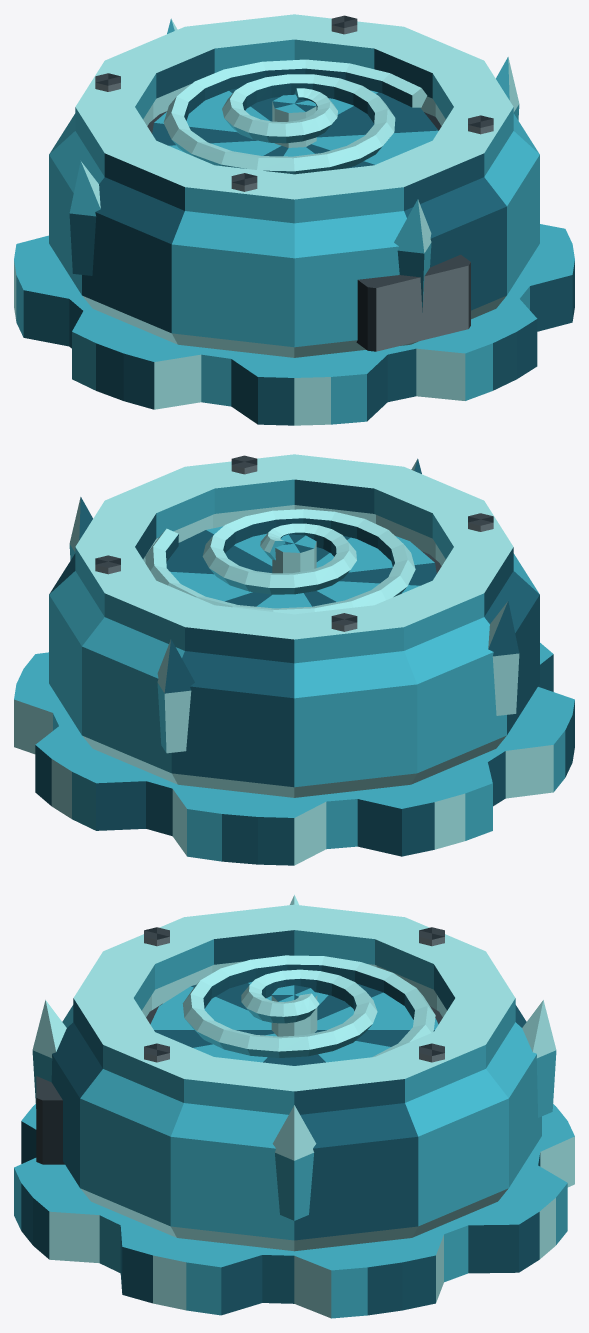
The model's file is diamond_extractor.fbx.
3 renders of one model, top to bottom at view 1: azimuth 30°, elevation 25°; view 2: azimuth 150°, elevation 25°; view 3: azimuth 270°, elevation 25°, orthographic.
Parts seen in each view (by area): view 1: diamond_extractor_body, diamond_extractor_rotor; view 2: diamond_extractor_body, diamond_extractor_rotor; view 3: diamond_extractor_body, diamond_extractor_rotor.
Part boxes in pixels (x1,y1,x2,y2): diamond_extractor_body: [14, 14, 574, 425]; diamond_extractor_rotor: [152, 59, 438, 174]; diamond_extractor_body: [14, 454, 574, 865]; diamond_extractor_rotor: [145, 509, 436, 614]; diamond_extractor_body: [14, 894, 574, 1318]; diamond_extractor_rotor: [150, 955, 438, 1065].
Size of the model in its own units: 3.17 by 1.32 by 3.17.
1 material, 1 textured.
